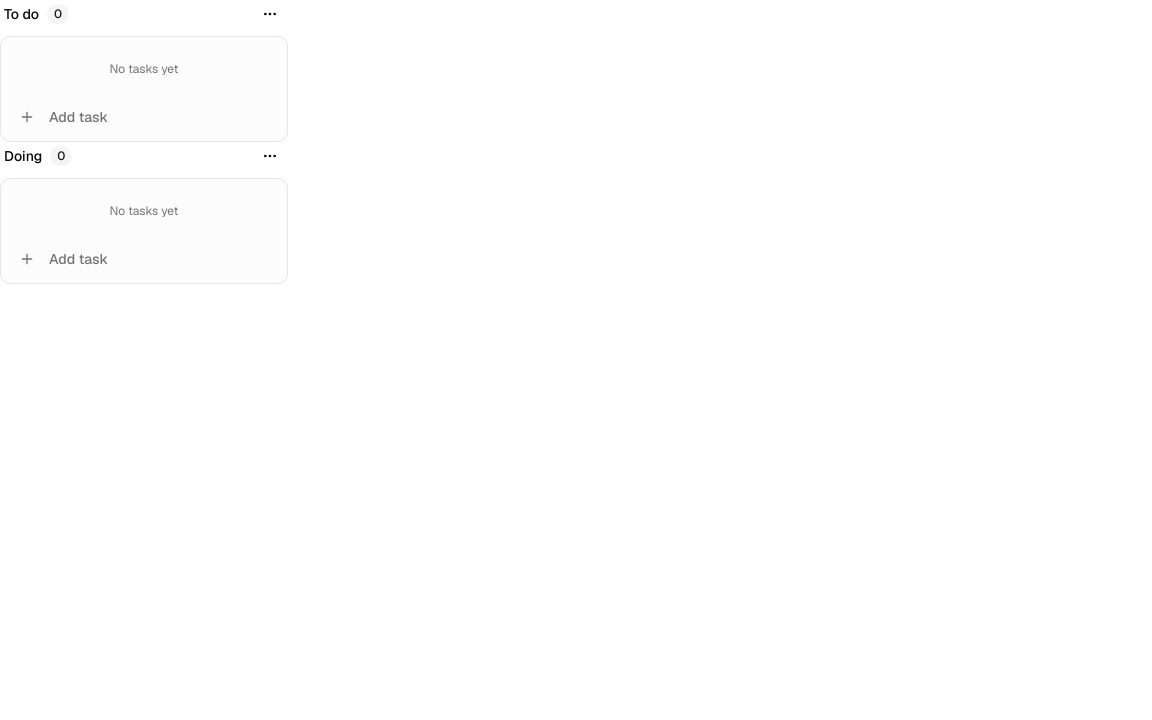
Scenario: Column delete confirm returns focus › moves to the previous column's menu button after deleting the last column
Click the button named "Doing column actions" at (270, 156), box x1=256 y1=142 x2=284 y2=170
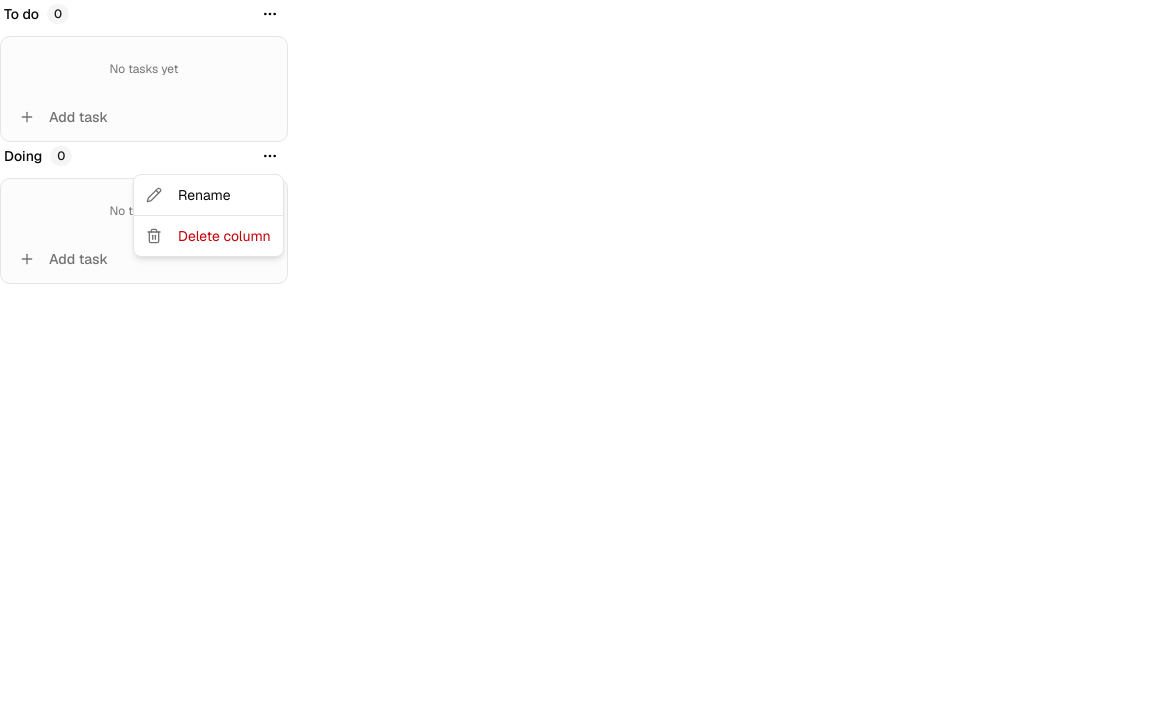
Click the menu item "Delete column" at (208, 236), box x1=146 y1=227 x2=271 y2=245
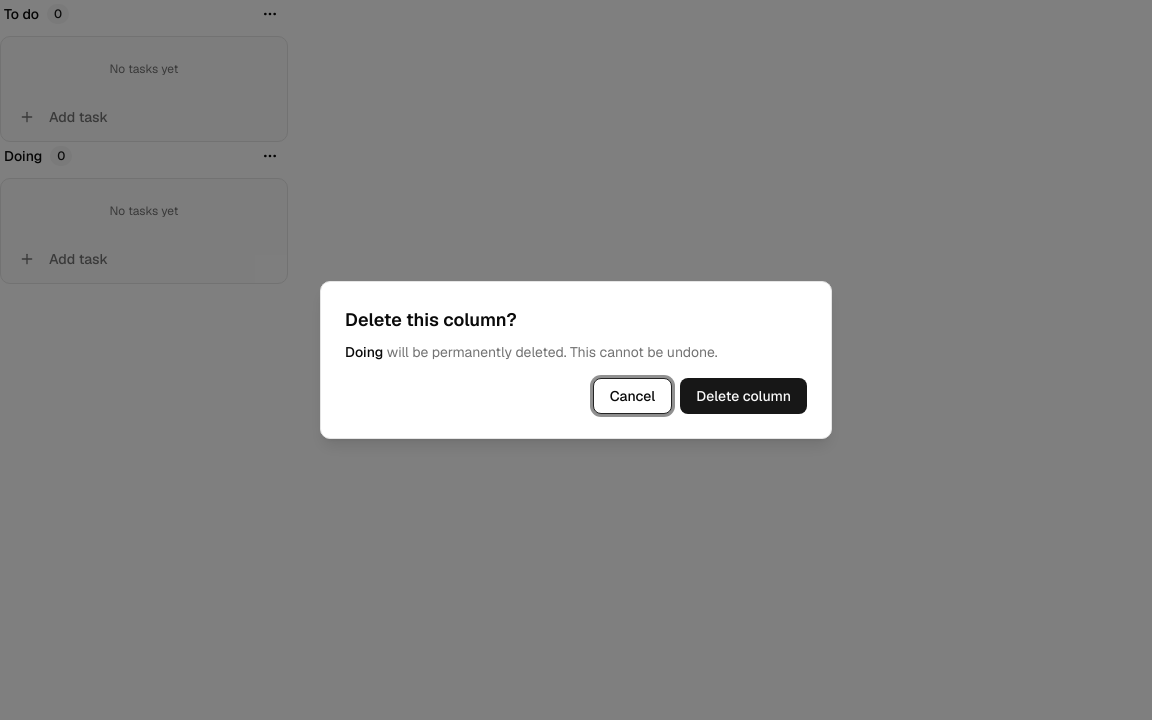
Click the button "Delete column" at (744, 396), box x1=680 y1=378 x2=807 y2=414
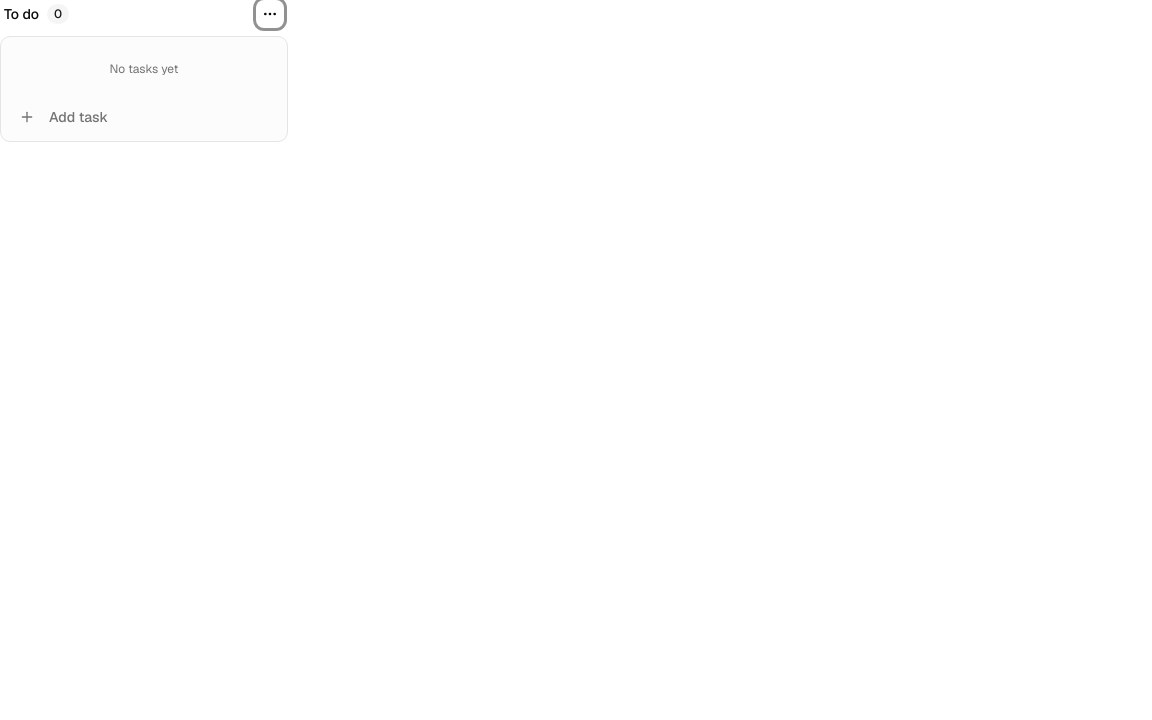
Expected: the heading "Doing" is gone
